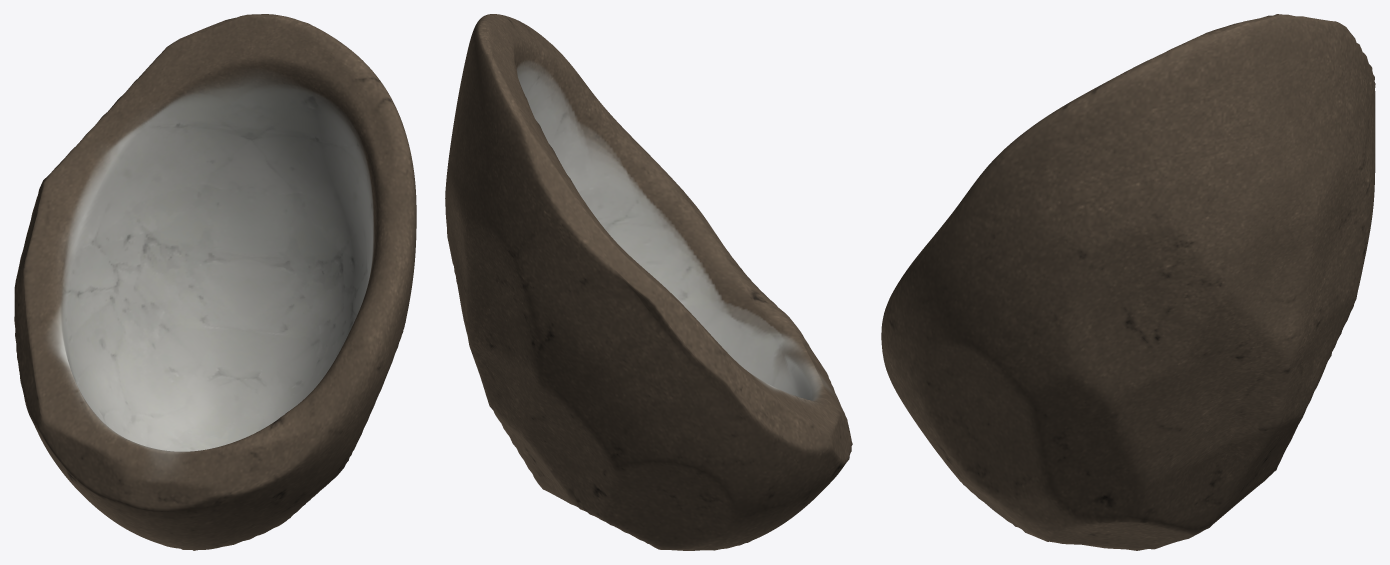
Rendered from textured use.obj.
3 renders of one model, left to right at view 1: azimuth 30°, elevation 25°; view 2: azimuth 150°, elevation 25°; view 3: azimuth 270°, elevation 25°, orthographic. The views are drawn at different scales.
Visible parts, largest first — view 1: ZBrush_defualt_group; view 2: ZBrush_defualt_group; view 3: ZBrush_defualt_group.
Boxes of the visible parts, <box> form: ZBrush_defualt_group: <box>14,14,416,550</box>; ZBrush_defualt_group: <box>445,14,852,550</box>; ZBrush_defualt_group: <box>881,14,1375,550</box>.
Size of the model in its own units: 5.46 by 6.92 by 5.29.
Materials: 1 (1 with a texture image).
